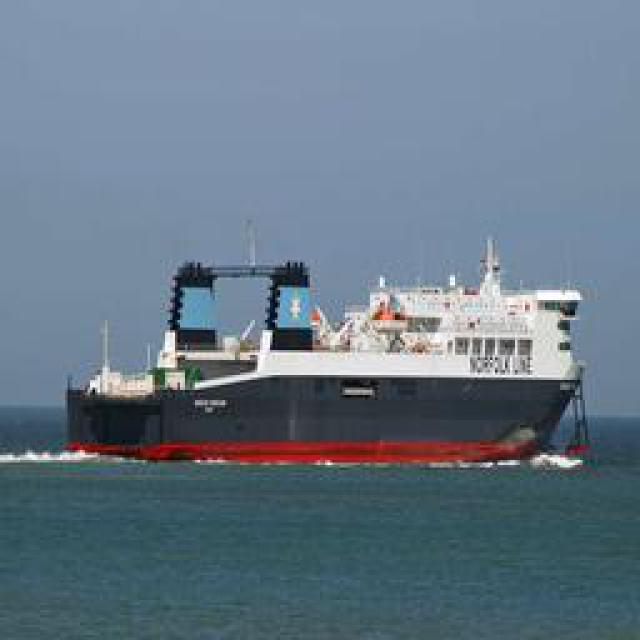Ship: (68, 230, 603, 475)
